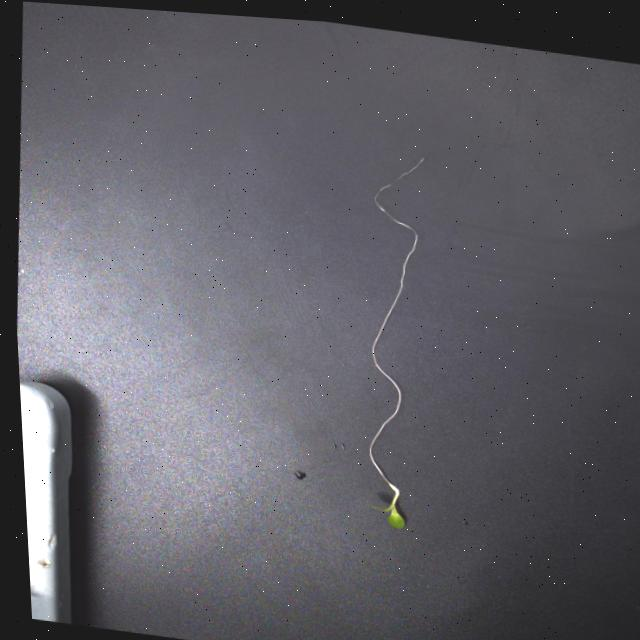leaf: (389, 508, 404, 528), (371, 506, 393, 511)
root: (368, 157, 422, 483)
stem: (387, 483, 398, 506)
